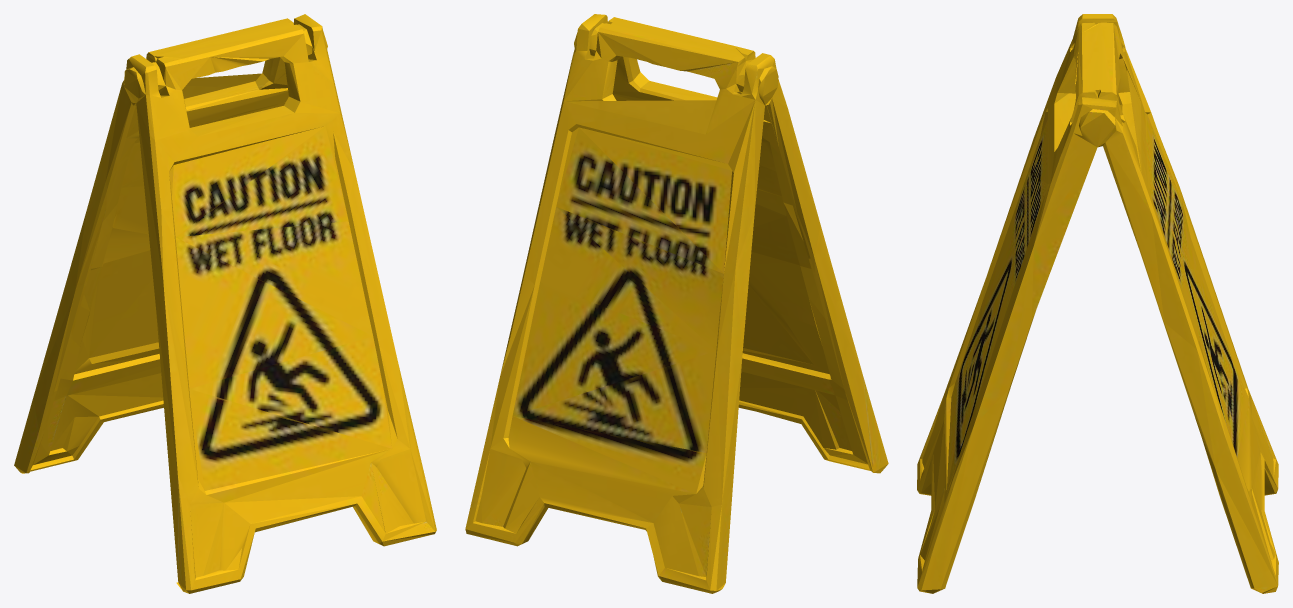
The model's file is wet_floor_sign.glb.
3 views of the same model, side by side, from view 1: azimuth 30°, elevation 25°; view 2: azimuth 150°, elevation 25°; view 3: azimuth 270°, elevation 25° (orthographic). The views are drawn at different scales.
Bounding box in the file's own units: 1.08 × 1.9 × 1.31.
Materials: 1 (1 with a texture image).
